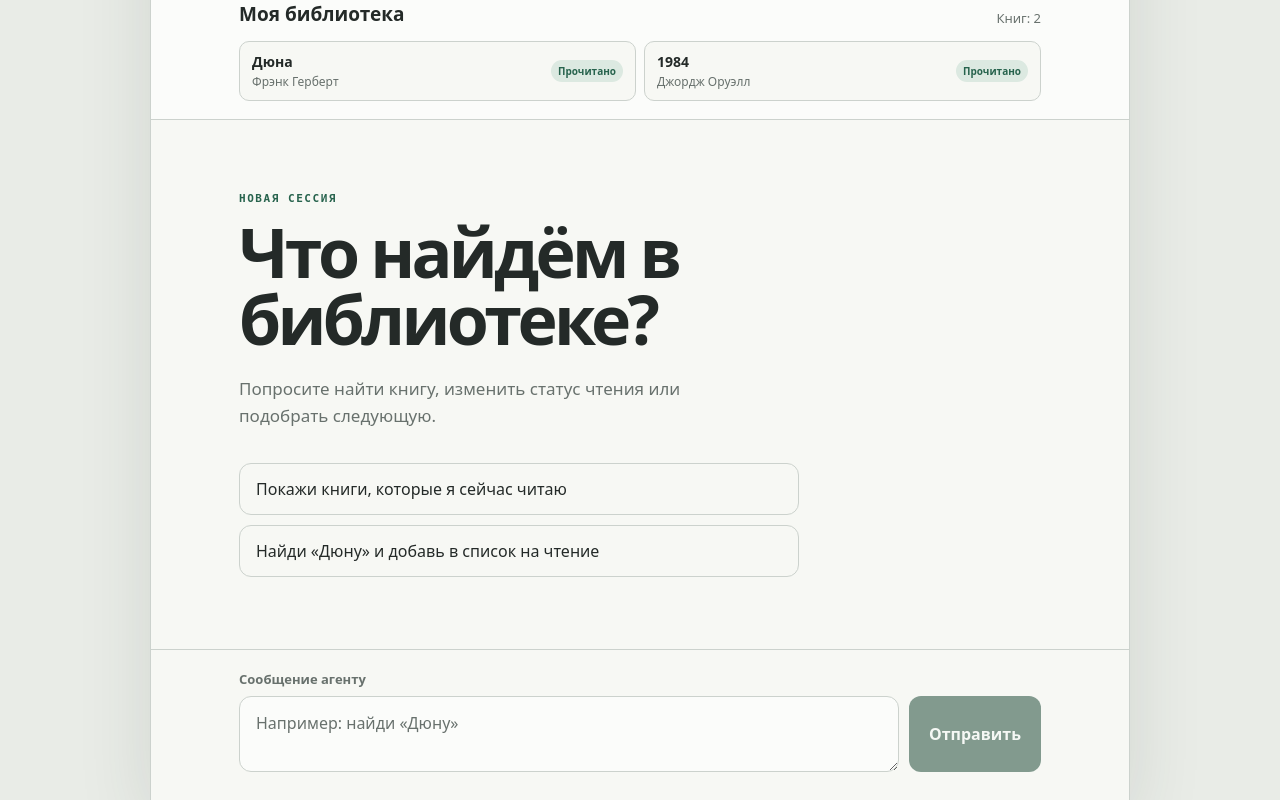
Test case: Library panel and MVP scenarios › passes the recommendation MVP without mutating the library
The image size is (1280, 800).
(page scrolled)
In the text box labelled "Сообщение агенту": (569, 734) [239,696,899,772], type "Предложи три похожие книги"
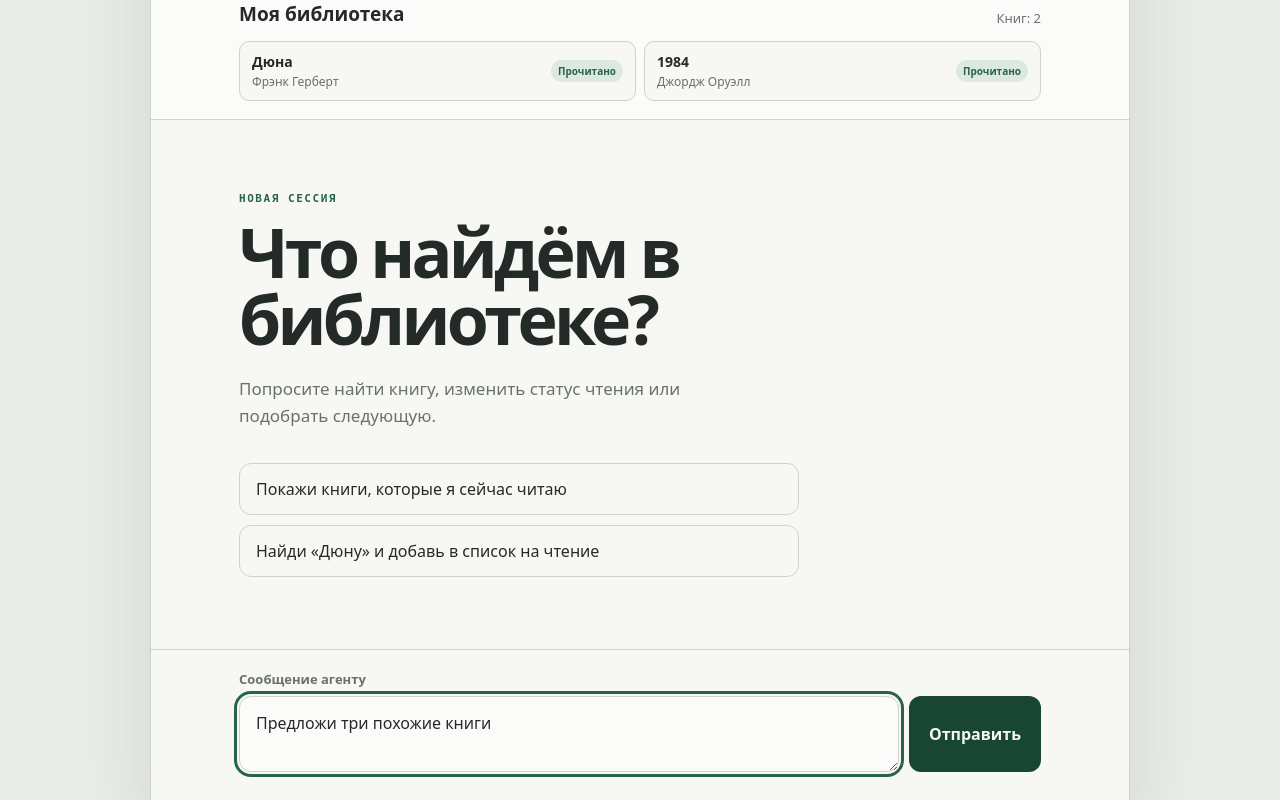
Click the button "Отправить": (975, 734) [909,696,1041,772]
(page scrolled)
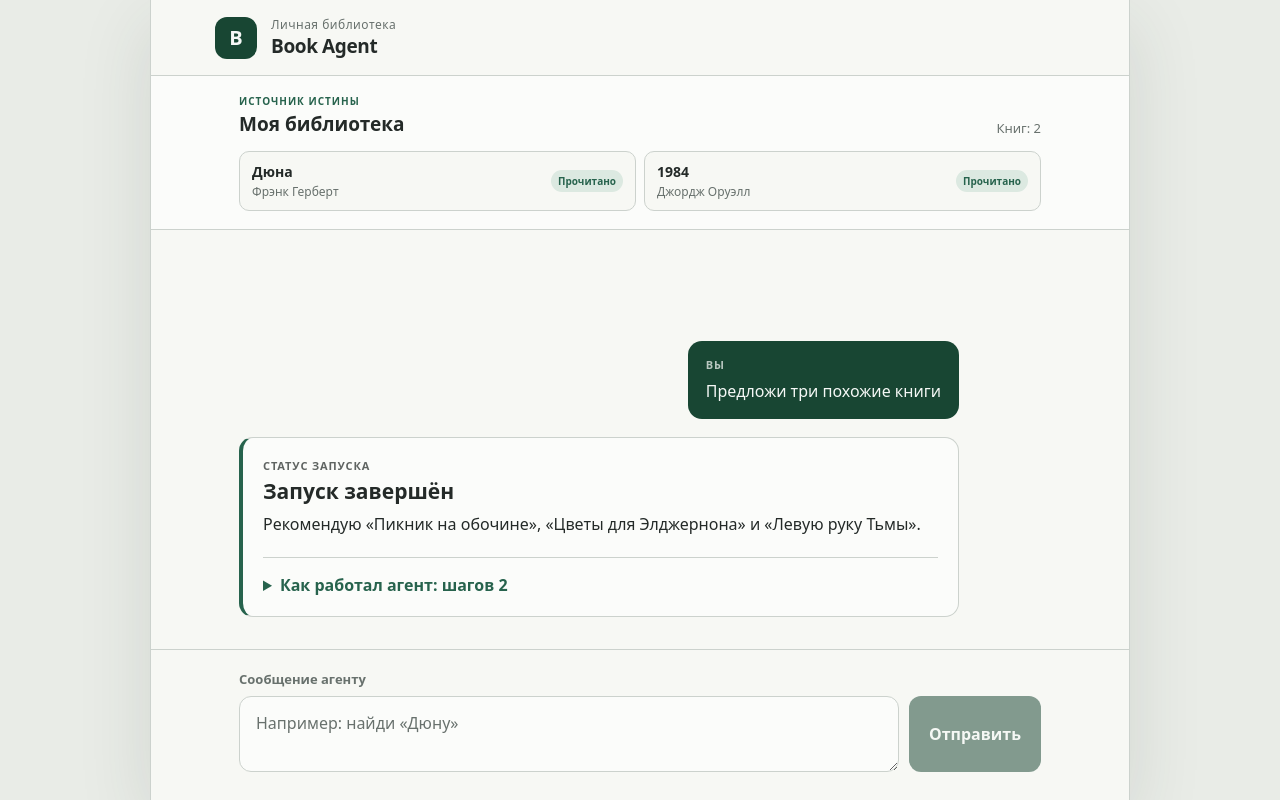
expect the text "Книг: 2" is shown: met, box [996,119,1041,137]
expect the text "Рекомендую «Пикник на обочине», «Цветы для Элджернона» и «Левую руку Тьмы»." is shown: met, box [263,512,938,537]
